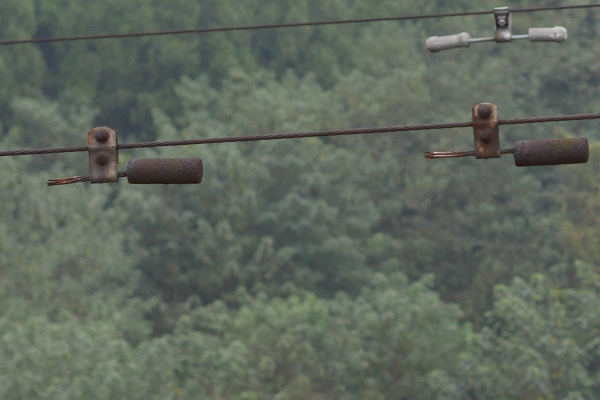damper: (423, 5, 569, 54)
damper_defect: (411, 99, 591, 170), (41, 122, 207, 193)
